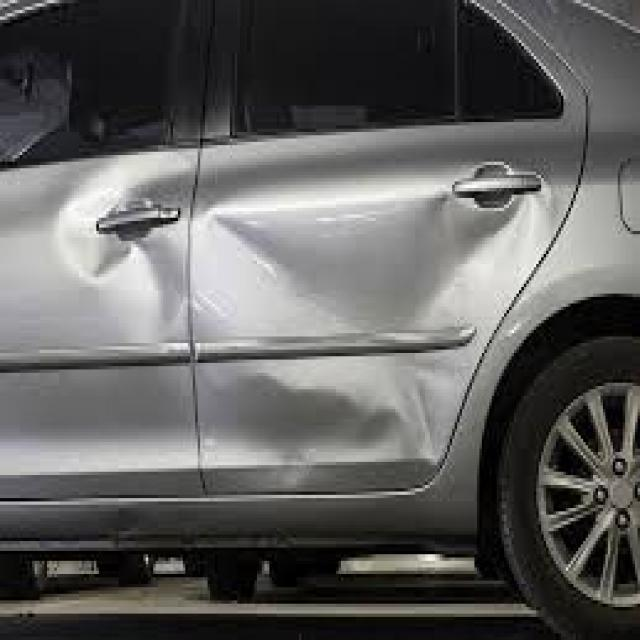dent-or-scratch: (198, 189, 492, 491), (56, 184, 185, 341)
